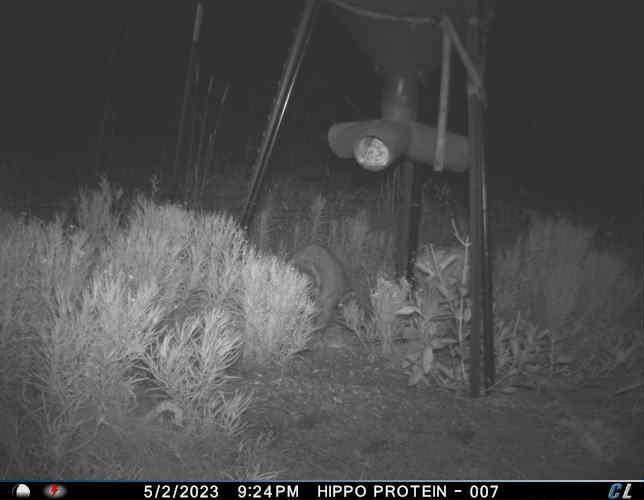Raccoon: (283, 237, 360, 334)
